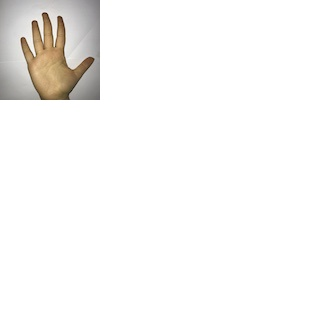paper: (16, 9, 94, 97)
